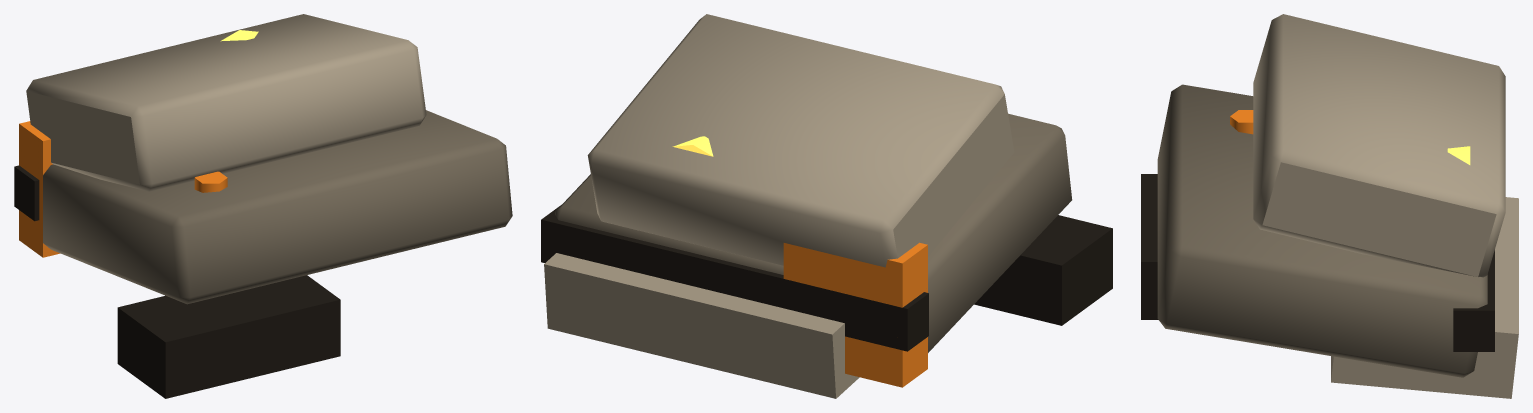
Rendered from granadero_hombrera.glb.
3 renders of one model, left to right at view 1: azimuth 30°, elevation 25°; view 2: azimuth 150°, elevation 25°; view 3: azimuth 270°, elevation 25°, orthographic. The views are drawn at different scales.
Visible parts, largest first — view 1: granadero_hombrera; view 2: granadero_hombrera; view 3: granadero_hombrera.
Part boxes in pixels (x1,y1,x2,y2): granadero_hombrera: [14, 14, 512, 398]; granadero_hombrera: [541, 14, 1112, 398]; granadero_hombrera: [1141, 14, 1518, 398].
Bounding box in the file's own units: 0.229 × 0.1394 × 0.1997.
